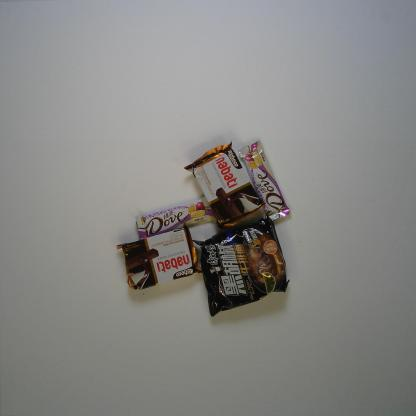Chocolate: (237, 140, 292, 222), (134, 196, 216, 240)
Dessert: (183, 139, 265, 230), (116, 220, 202, 290)
Instant Noodles: (192, 213, 291, 318)
